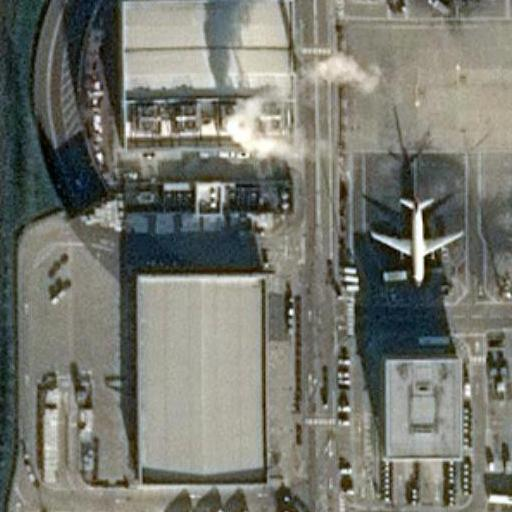Aircraft: (368, 196, 463, 287)
